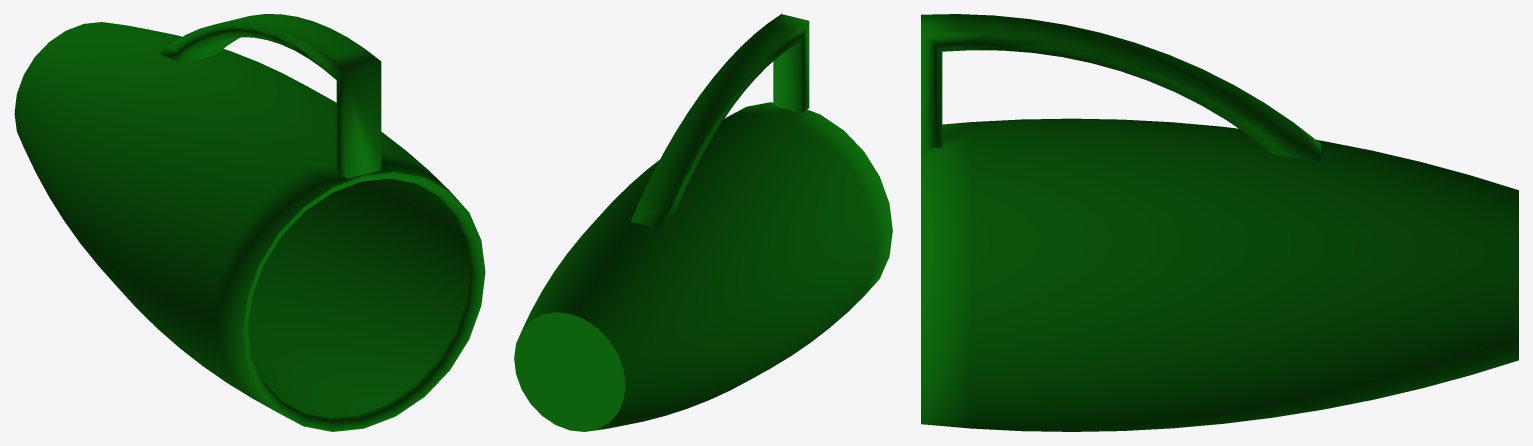
File: model_scale.obj
3 views of the same model, side by side, from view 1: azimuth 30°, elevation 25°; view 2: azimuth 150°, elevation 25°; view 3: azimuth 270°, elevation 25° (orthographic). The views are drawn at different scales.
Parts seen in each view (by area): view 1: mesh1_mesh1-geometry; view 2: mesh1_mesh1-geometry; view 3: mesh1_mesh1-geometry.
Part boxes in pixels (left/top/right/bottom): mesh1_mesh1-geometry: left=14, top=14, right=485, bottom=431; mesh1_mesh1-geometry: left=514, top=14, right=892, bottom=431; mesh1_mesh1-geometry: left=921, top=14, right=1518, bottom=431.
Size of the model in its own units: 0.0654 by 0.0905 by 0.1242.
